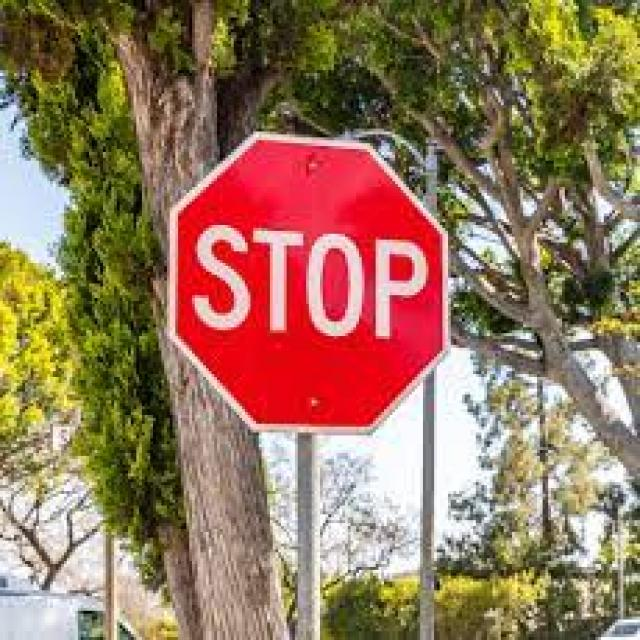stop-sign: (178, 135, 400, 436)
